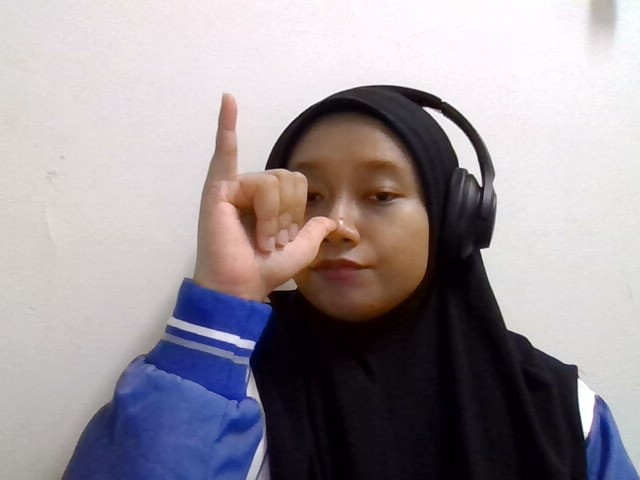BadakSumbu: (194, 91, 375, 285)
